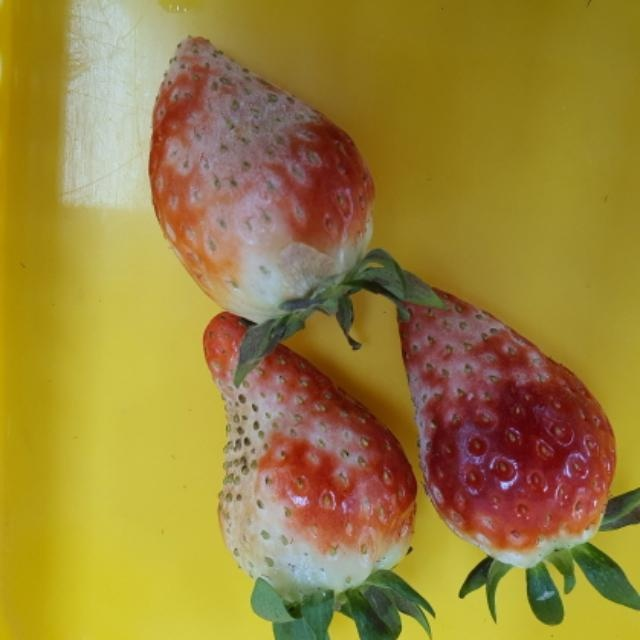Powdery Mildew Fruit: (148, 36, 376, 325), (202, 310, 419, 604), (398, 286, 618, 567)
